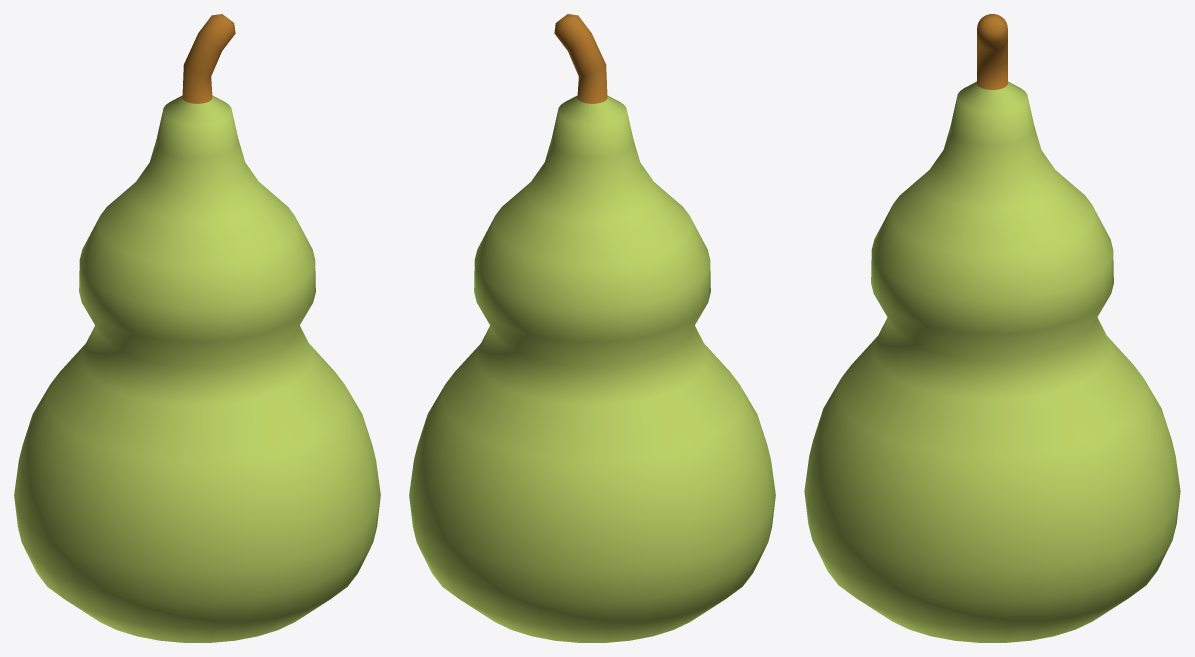
File: Gourd.fbx
3 renders of one model, left to right at view 1: azimuth 30°, elevation 25°; view 2: azimuth 150°, elevation 25°; view 3: azimuth 270°, elevation 25°, orthographic. The views are drawn at different scales.
Parts seen in each view (by area): view 1: Cylinder; view 2: Cylinder; view 3: Cylinder.
Part boxes in pixels (left/top/right/bottom): Cylinder: left=14, top=14, right=380, bottom=642; Cylinder: left=409, top=14, right=775, bottom=642; Cylinder: left=804, top=14, right=1180, bottom=642.
Bounding box in the file's own units: 161 × 293 × 162.
